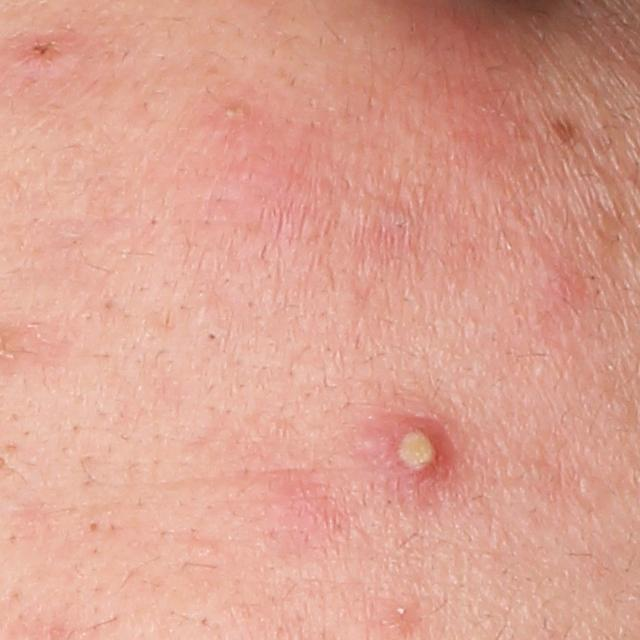comedo: (86, 519, 100, 535), (206, 332, 220, 345)
nevus: (546, 105, 584, 151)
papule: (2, 32, 79, 79)
pustule: (356, 404, 455, 496)
